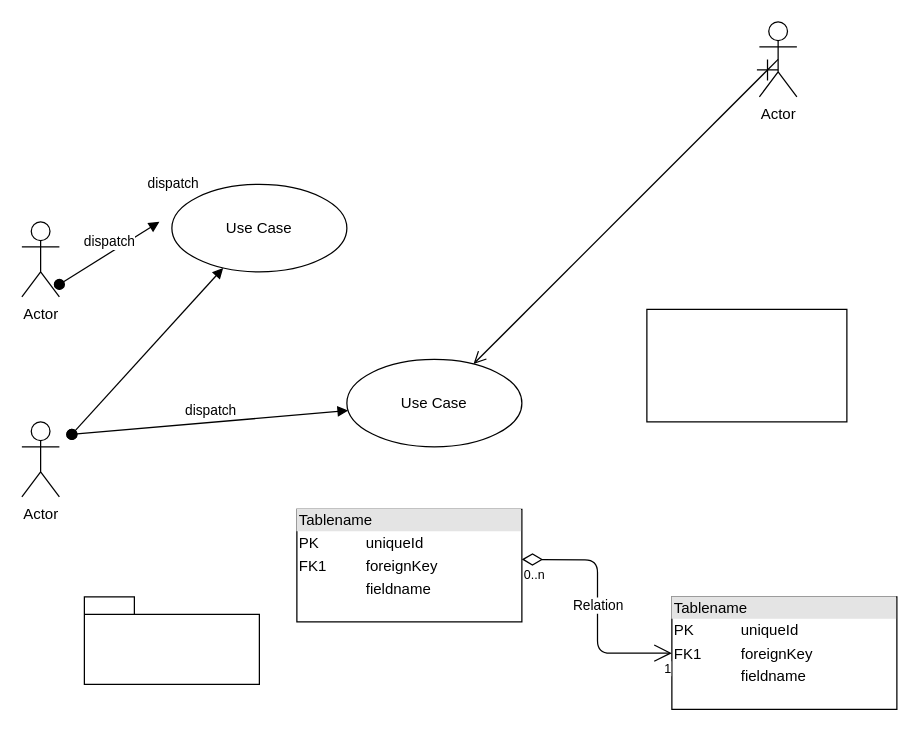
The diagram is 919 pixels wide and 731 high, and some of its shapes have lost their labels. Here are the shapes that lost their labels. From the top down, the box of each, then its label:
(646, 308, 847, 422): Object:Type field1 = value1 field2 = value2 field3 = value3
(83, 596, 259, 684): package
